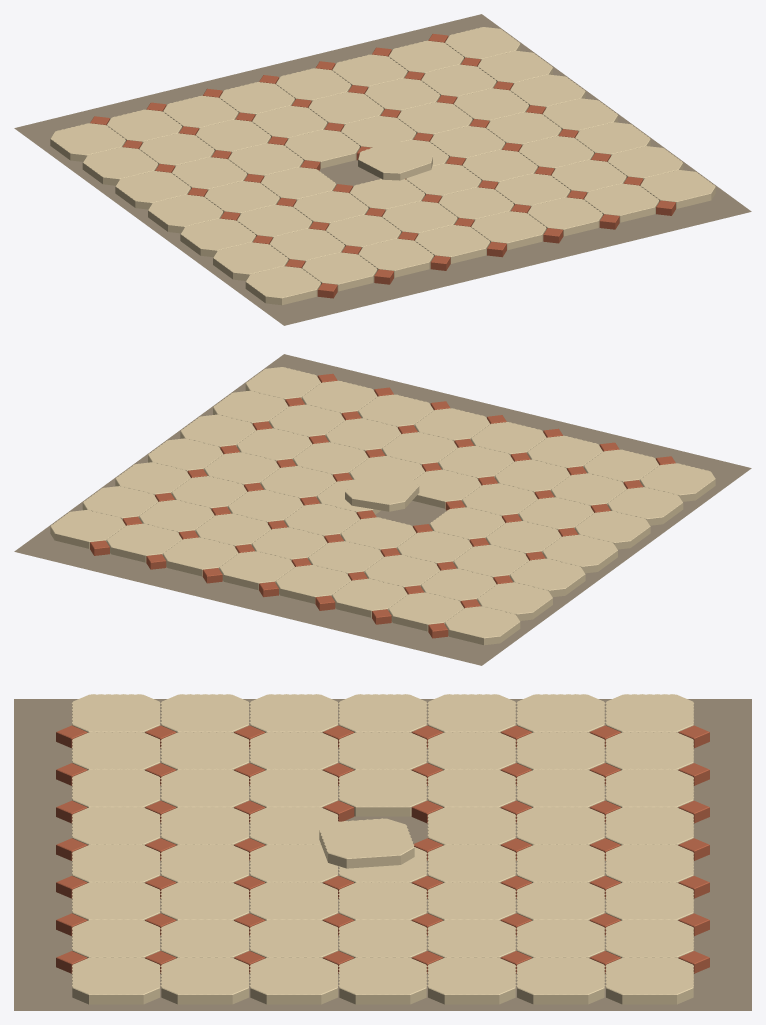
Rendered from terilgan.glb.
The picture shows the model from 3 angles, top to bottom: view 1: azimuth 30°, elevation 25°; view 2: azimuth 150°, elevation 25°; view 3: azimuth 270°, elevation 25°; orthographic projection. The views are drawn at different scales.
Visible parts, largest first — view 1: qum, t.027, t, t.007, t.001, t.005, t.003, t.035, t.004, t.002, t.006, t.040 (+44 smaller); view 2: qum, t.027, t.048, t.055, t.049, t.053, t.051, t.052, t.050, t.054, t.008, t (+45 smaller); view 3: qum, t.027, t.031, t.007, t.055, t.015, t.023, t.039, t.047, t.026, t.030, t.002 (+45 smaller).
Part boxes in pixels (left/top/right/bottom): qum: left=14, top=14, right=751, bottom=325; t.027: left=358, top=141, right=432, bottom=180; t: left=245, top=266, right=320, bottom=305; t.007: left=640, top=170, right=715, bottom=208; t.001: left=302, top=252, right=377, bottom=291; t.005: left=527, top=197, right=602, bottom=236; t.003: left=414, top=225, right=490, bottom=263; t.035: left=284, top=129, right=359, bottom=168; t.004: left=471, top=211, right=546, bottom=250; t.002: left=358, top=238, right=433, bottom=277; t.006: left=584, top=183, right=659, bottom=222; t.040: left=82, top=147, right=158, bottom=185; qum: left=14, top=354, right=751, bottom=665; t.027: left=345, top=473, right=419, bottom=511; t.048: left=445, top=606, right=520, bottom=645; t.055: left=50, top=510, right=125, bottom=548; t.049: left=388, top=592, right=463, bottom=631; t.053: left=163, top=537, right=238, bottom=576; t.051: left=275, top=565, right=351, bottom=603; t.052: left=219, top=551, right=294, bottom=590; t.050: left=332, top=578, right=407, bottom=617; t.054: left=106, top=523, right=181, bottom=562; t.008: left=607, top=487, right=683, bottom=525; t: left=640, top=463, right=715, bottom=501; qum: left=14, top=699, right=751, bottom=1010; t.027: left=319, top=818, right=414, bottom=868; t.031: left=338, top=957, right=427, bottom=1004; t.007: left=72, top=957, right=160, bottom=1004; t.055: left=605, top=957, right=693, bottom=1004; t.015: left=161, top=957, right=249, bottom=1004; t.023: left=249, top=957, right=338, bottom=1004; t.039: left=427, top=957, right=516, bottom=1004; t.047: left=516, top=957, right=604, bottom=1004; t.026: left=338, top=769, right=427, bottom=816; t.030: left=338, top=919, right=427, bottom=958; t.002: left=72, top=769, right=160, bottom=807.
Bounding box in the file's own units: 1.66 × 0.052 × 1.66.
